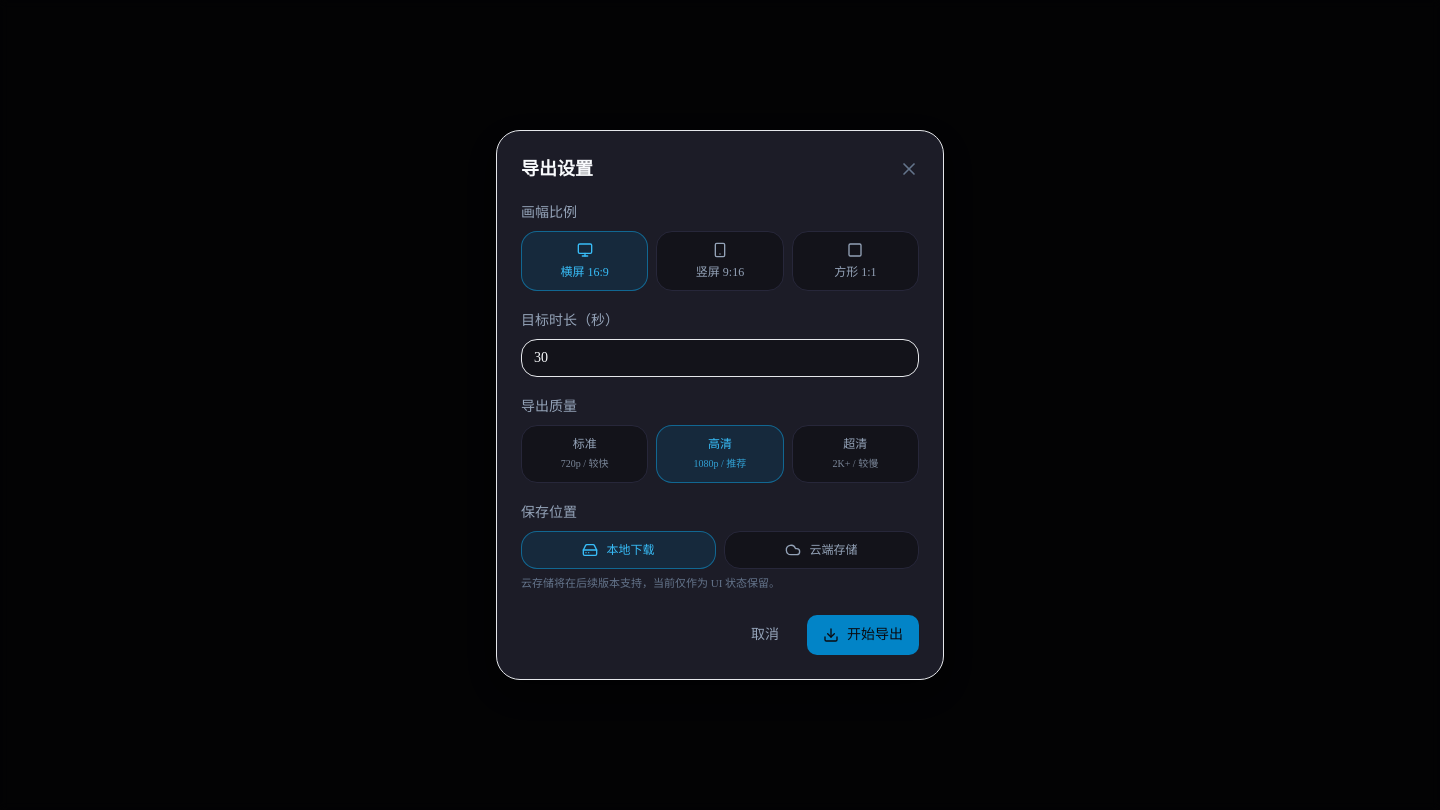
Test: ExportSettings › shows inline validation error and disables submit for invalid duration
This screenshot has width=1440, height=810.
Step 1. Replace the text in the number field labelled "目标时长（秒）" with "400" → (720, 358), box [521,339,919,377]
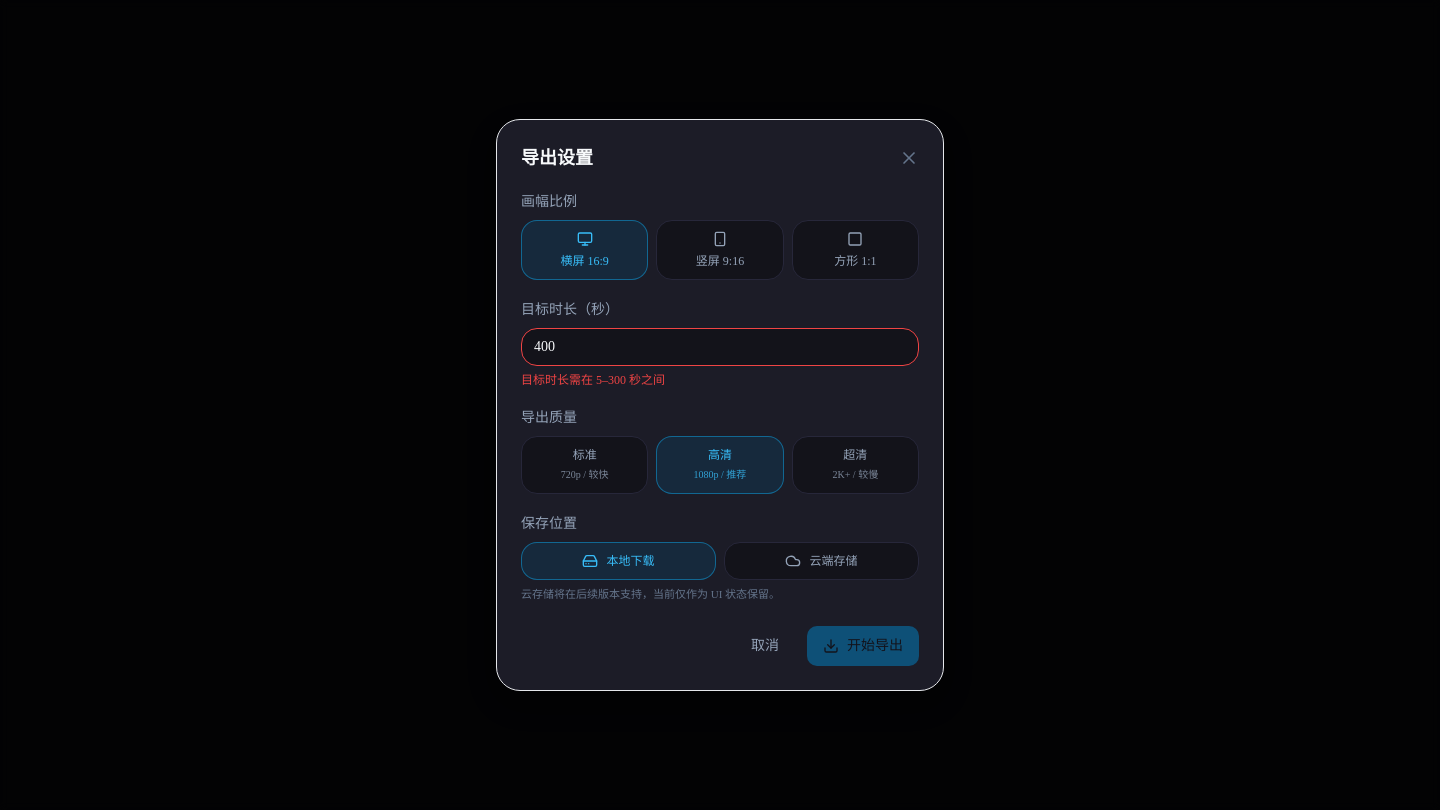
Expected: the text "目标时长需在 5–300 秒之间" is shown, [521,373,665,387]
Expected: the button "开始导出" is disabled, [807,626,919,666]
